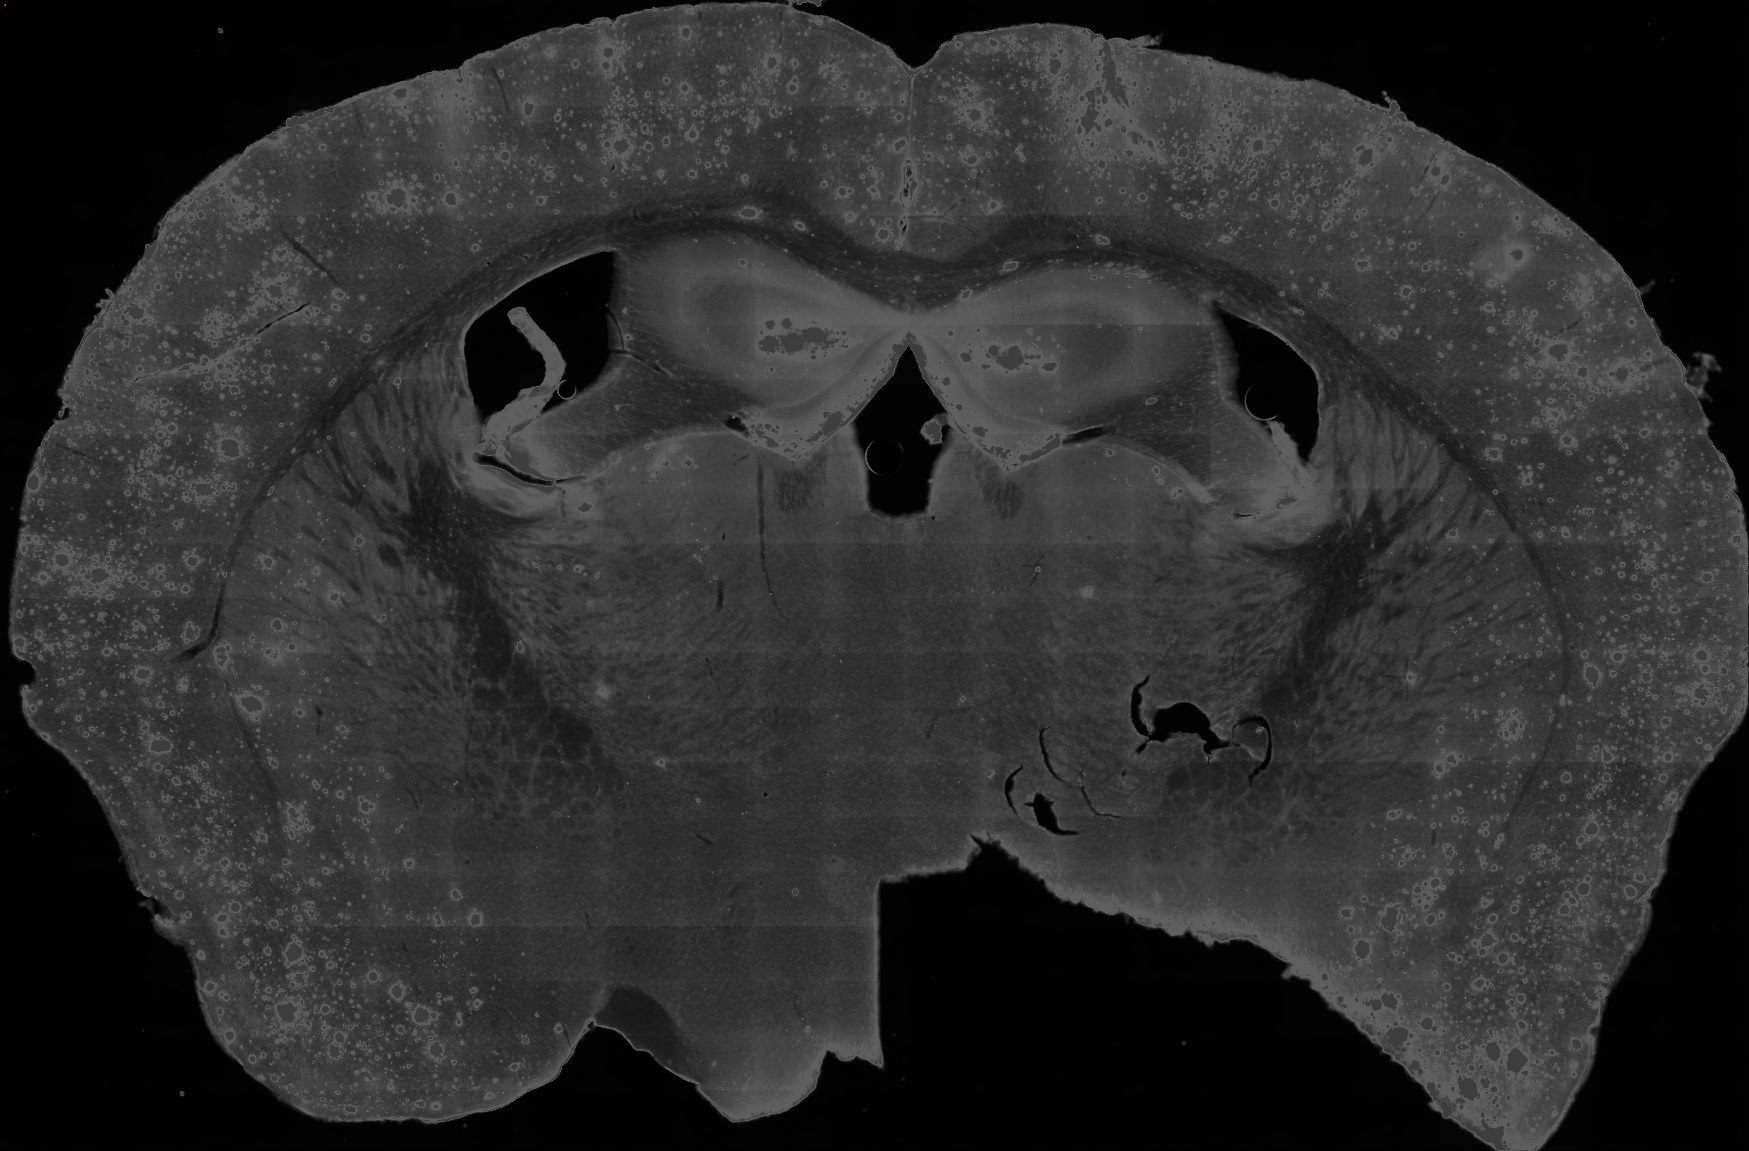Cerebral nuclei: (216, 337, 476, 889), (1333, 375, 1568, 868)
Hippocampal formation: (624, 233, 909, 455), (910, 263, 1220, 459)
Hypothalamus: (526, 778, 883, 1124)
Retrosplenial area: (898, 21, 1023, 268), (788, 13, 912, 254)
Somatosensory area: (71, 66, 518, 447), (1285, 98, 1676, 456)
Thalamus: (883, 425, 1315, 817), (485, 421, 898, 820)
